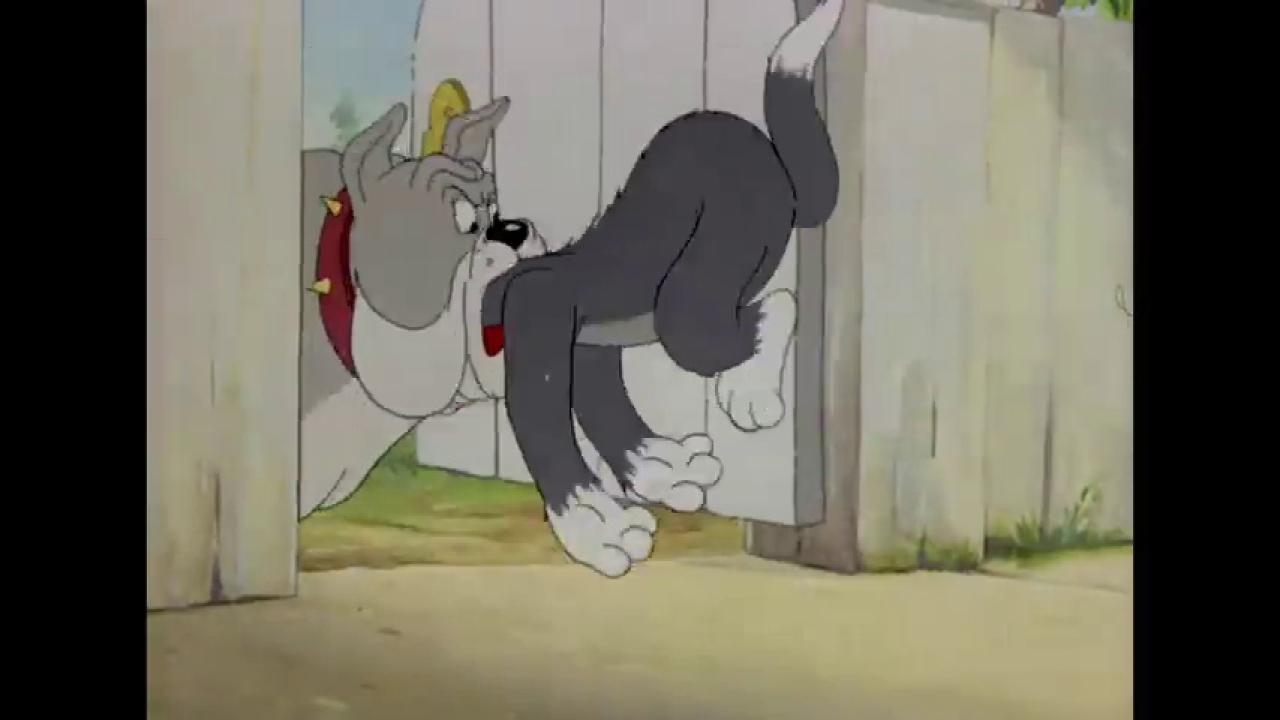Tom: (481, 0, 843, 578)
